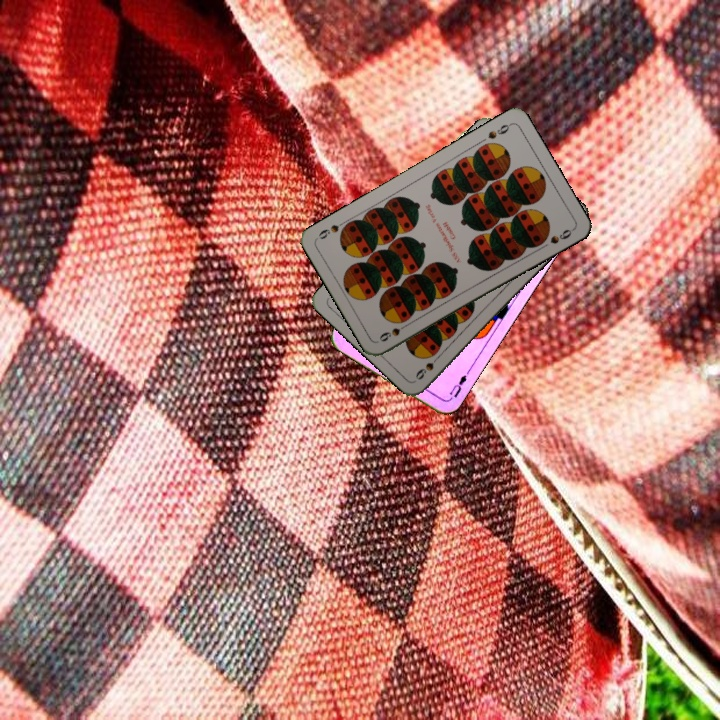EU: (445, 367, 472, 403)
S9: (411, 350, 444, 382), (375, 319, 412, 344), (484, 119, 514, 141)
